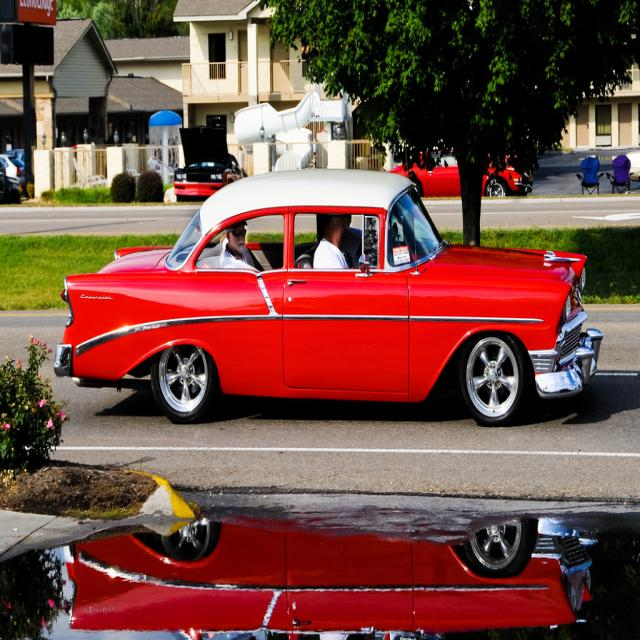Car: (53, 169, 604, 423), (389, 146, 533, 198), (173, 112, 245, 198), (1, 154, 24, 192)
